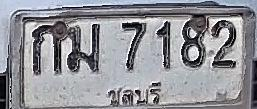1: (156, 20, 170, 70)
2: (211, 19, 236, 68)
7: (122, 21, 146, 71)
8: (181, 14, 208, 68)
A01: (32, 23, 64, 75)
A33: (67, 23, 100, 73)
CBI: (102, 79, 164, 109)
